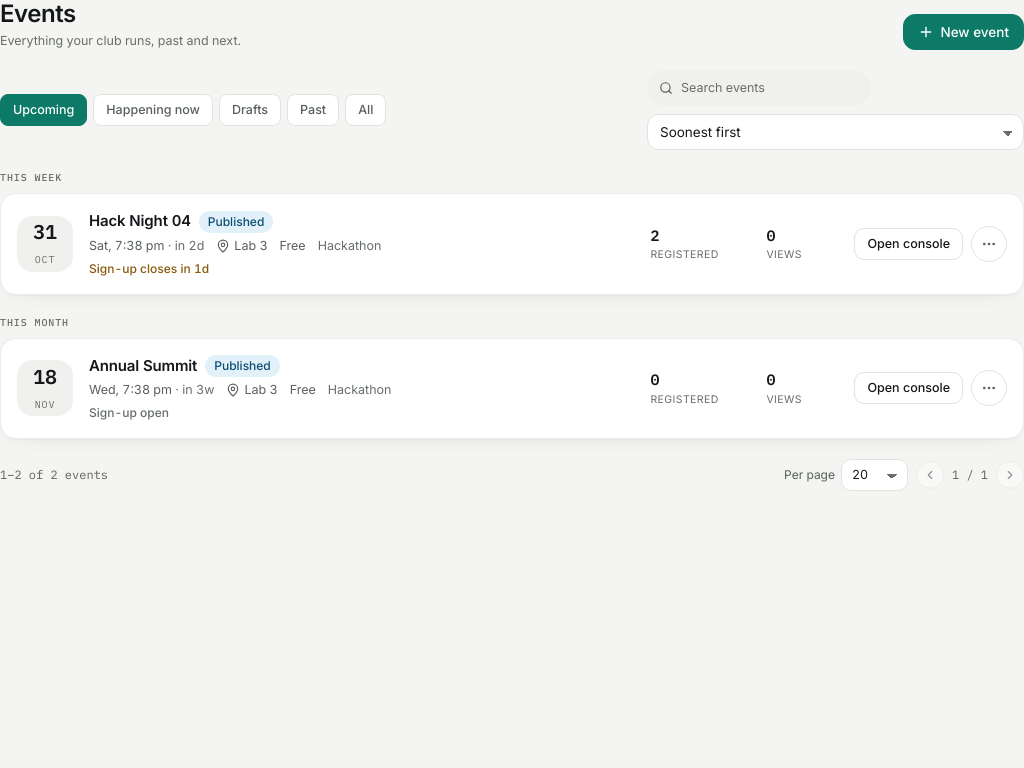
it: deleting an event from the events list › asks first, naming how many people registered, and sends nothing until confirmed
Step 1. Press Enter in the button named "More for Hack Night 04", box [971,226,1007,262]
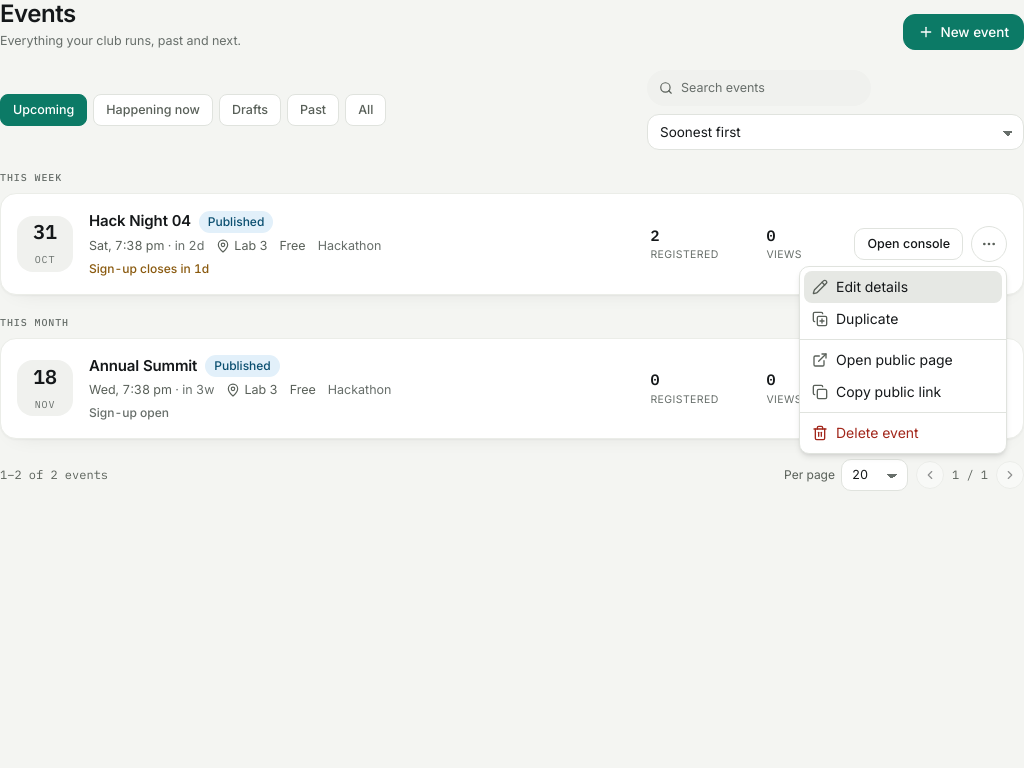
Step 2. Click the menu item "Delete event" → (865, 432), box [812,424,919,441]
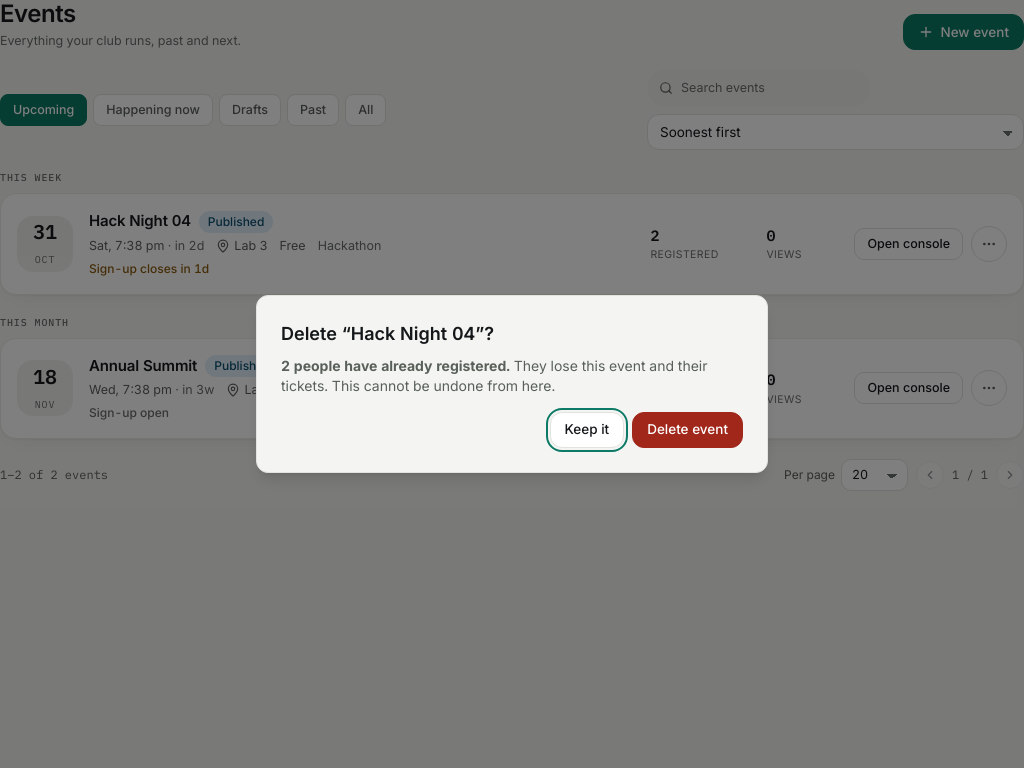
Expected: the heading "Delete “Hack Night 04”?" is shown, [281,323,494,344]
Expected: the text "2 people have already registered." is shown, [281,357,510,374]
Expected: the text "They lose this event and their tickets" is shown, [281,357,708,394]
